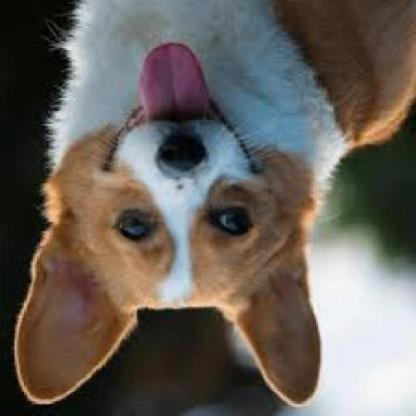dog: (12, 0, 414, 410)
